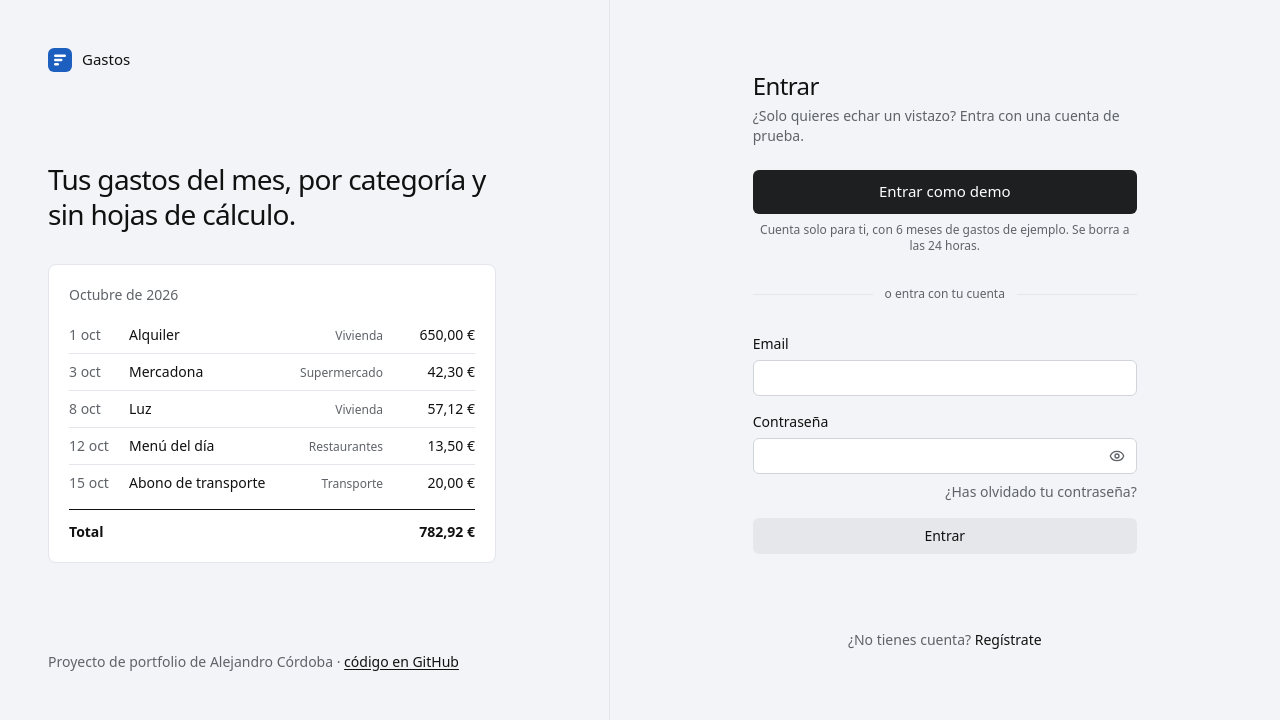
password reset › links to it from the login page
Click the link "¿Has olvidado tu contraseña?": click(1041, 492) 945,482 -> 1137,501
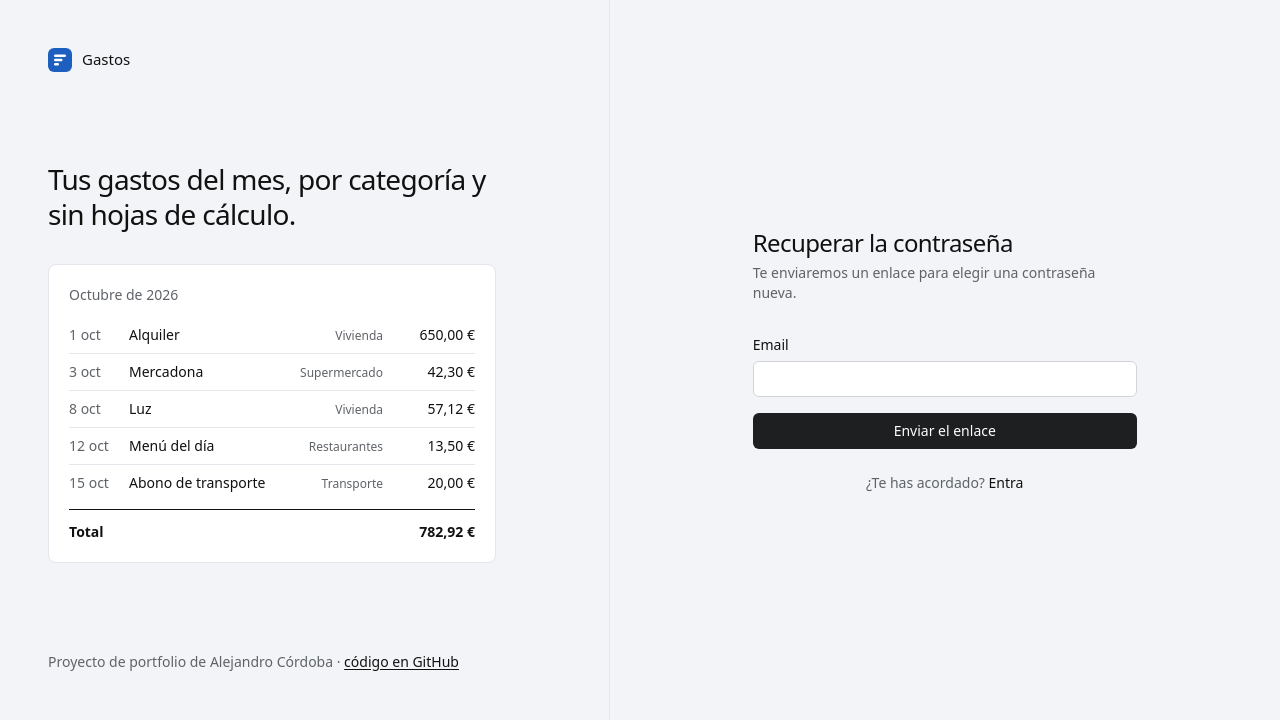
Expected: the heading "Recuperar la contraseña" is shown, 753,226 -> 1013,259
